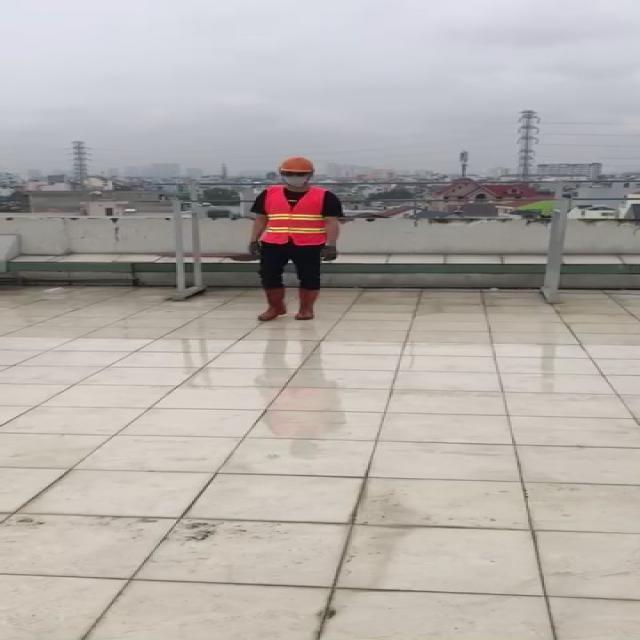gloves: (319, 244, 337, 261), (249, 241, 262, 258)
goggles: (281, 172, 308, 179)
helmet: (277, 155, 318, 175)
safety_vest: (261, 188, 325, 245)
